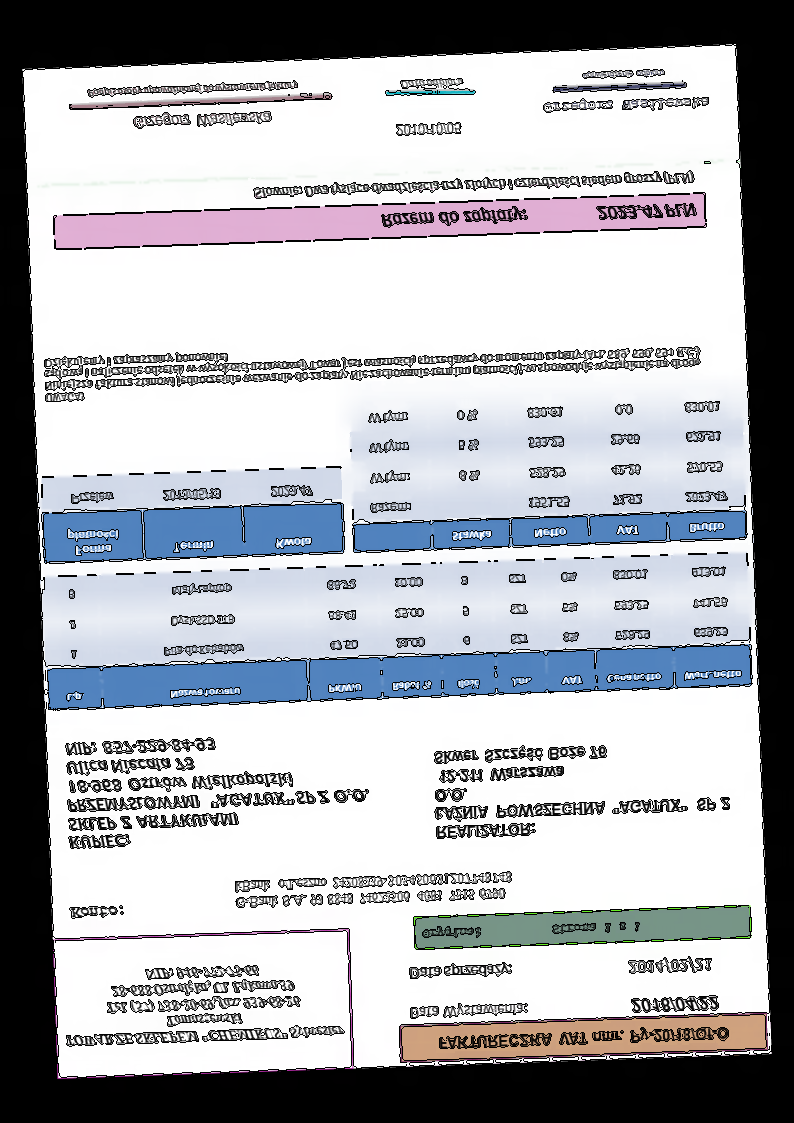Table: (42, 551, 753, 711), (347, 388, 748, 554), (40, 466, 344, 564)
TextBox: (41, 332, 703, 407), (61, 729, 374, 853), (431, 737, 734, 843), (60, 957, 345, 1052), (250, 167, 700, 204), (230, 866, 514, 913), (376, 197, 700, 236), (433, 1025, 730, 1054), (420, 917, 642, 944), (83, 78, 301, 103), (538, 94, 711, 118), (130, 108, 274, 135), (408, 1000, 529, 1023), (407, 960, 514, 984), (626, 991, 721, 1018), (625, 952, 716, 978), (579, 64, 668, 85), (392, 118, 463, 141), (67, 903, 125, 923), (398, 77, 466, 94)
